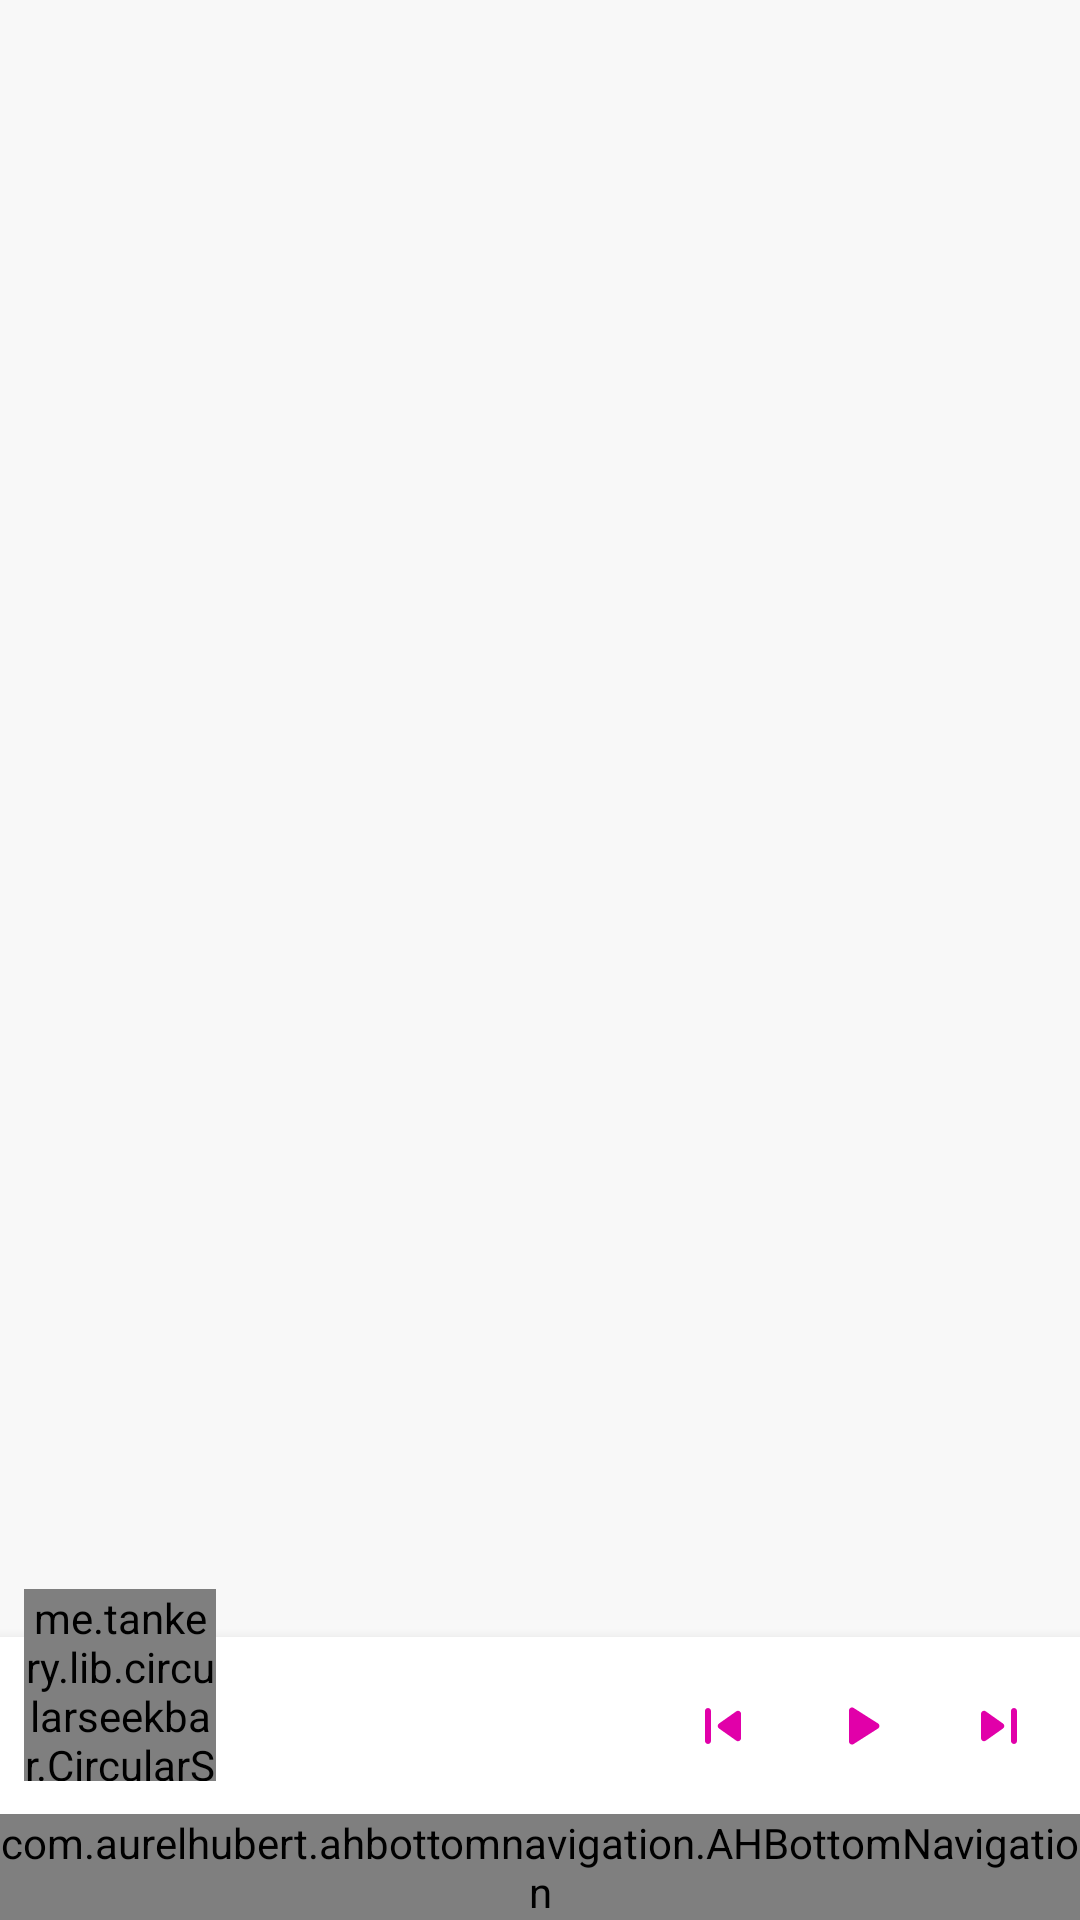

Where icons sit on this 1080x1920 app screen, as (left=x1, top=y1, right=x2, bottom=y2):
next inverted: (left=981, top=1708, right=1017, bottom=1744)
play pause: (left=849, top=1707, right=880, bottom=1745)
previous inverted: (left=705, top=1708, right=741, bottom=1744)
